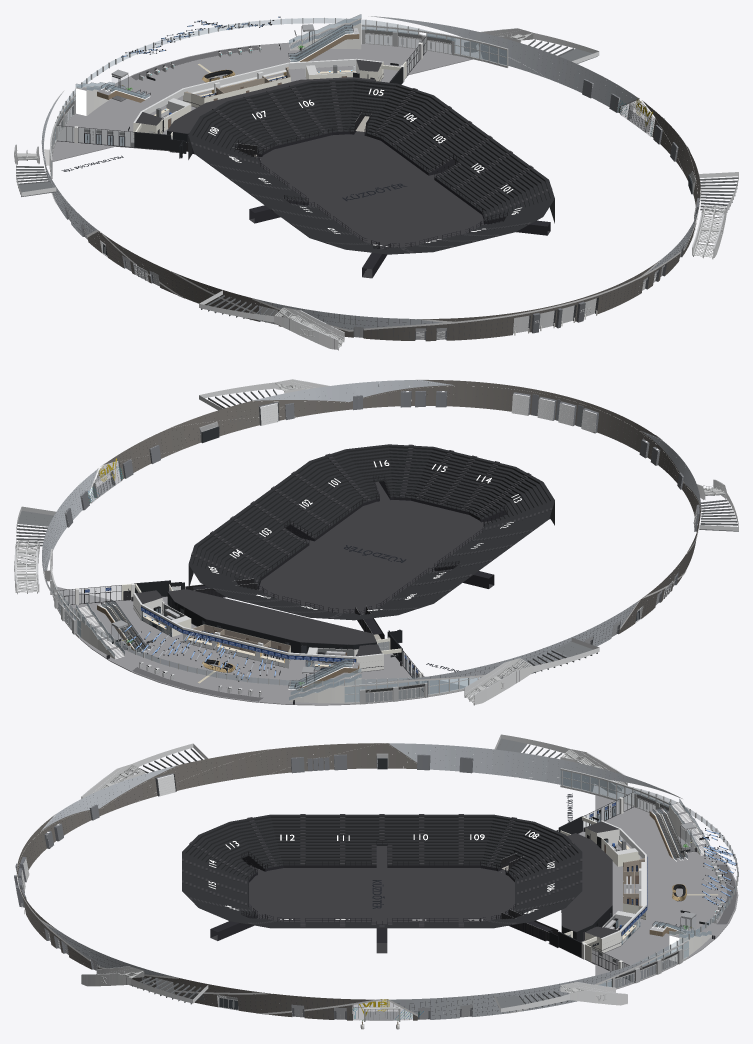
3 renders of one model, top to bottom at view 1: azimuth 30°, elevation 25°; view 2: azimuth 150°, elevation 25°; view 3: azimuth 270°, elevation 25°, orthographic. The views are drawn at different scales.
Bounding box in the file's own units: 147 × 11.95 × 165.
117 materials, 3 textured.
